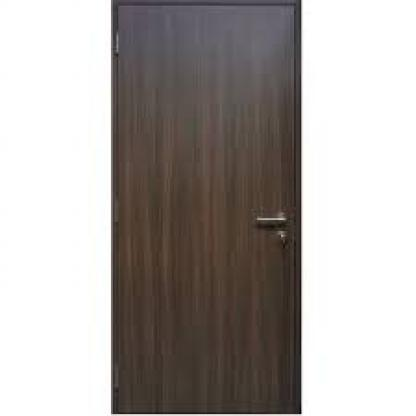door: (104, 0, 307, 416)
